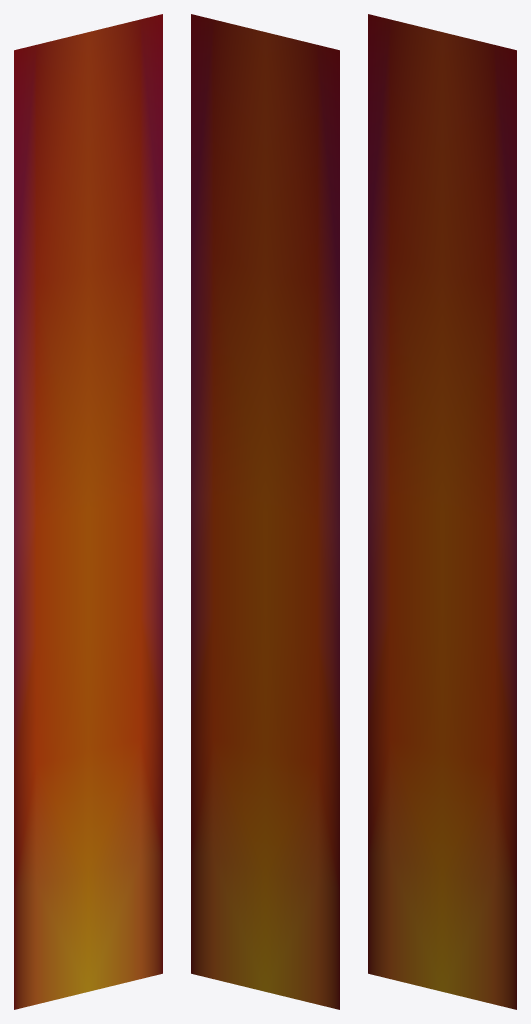
Rendered from Watefall_Lava_Test.FBX.
3 renders of one model, left to right at view 1: azimuth 30°, elevation 25°; view 2: azimuth 150°, elevation 25°; view 3: azimuth 330°, elevation 25°, orthographic.
Visible parts, largest first — view 1: LavaTest; view 2: LavaTest; view 3: LavaTest.
Part boxes in pixels (x1,y1,x2,y2): LavaTest: (14,14,162,1009); LavaTest: (191,14,339,1009); LavaTest: (368,14,516,1009).
Size of the model in its own units: 0.6 by 3.7 by 6.03e-07.
